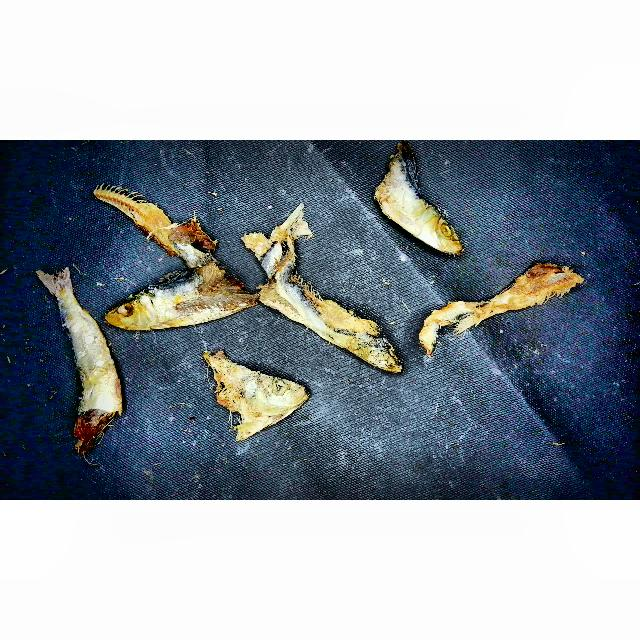Rejected_Body: (256, 259, 353, 352), (150, 262, 255, 332), (502, 252, 593, 325), (67, 329, 128, 435), (93, 176, 174, 254)
Rejected_Head: (201, 350, 313, 442), (371, 165, 464, 260), (338, 305, 405, 381), (96, 287, 159, 337)
Rejected_Tail: (260, 198, 318, 247), (442, 293, 499, 339)
